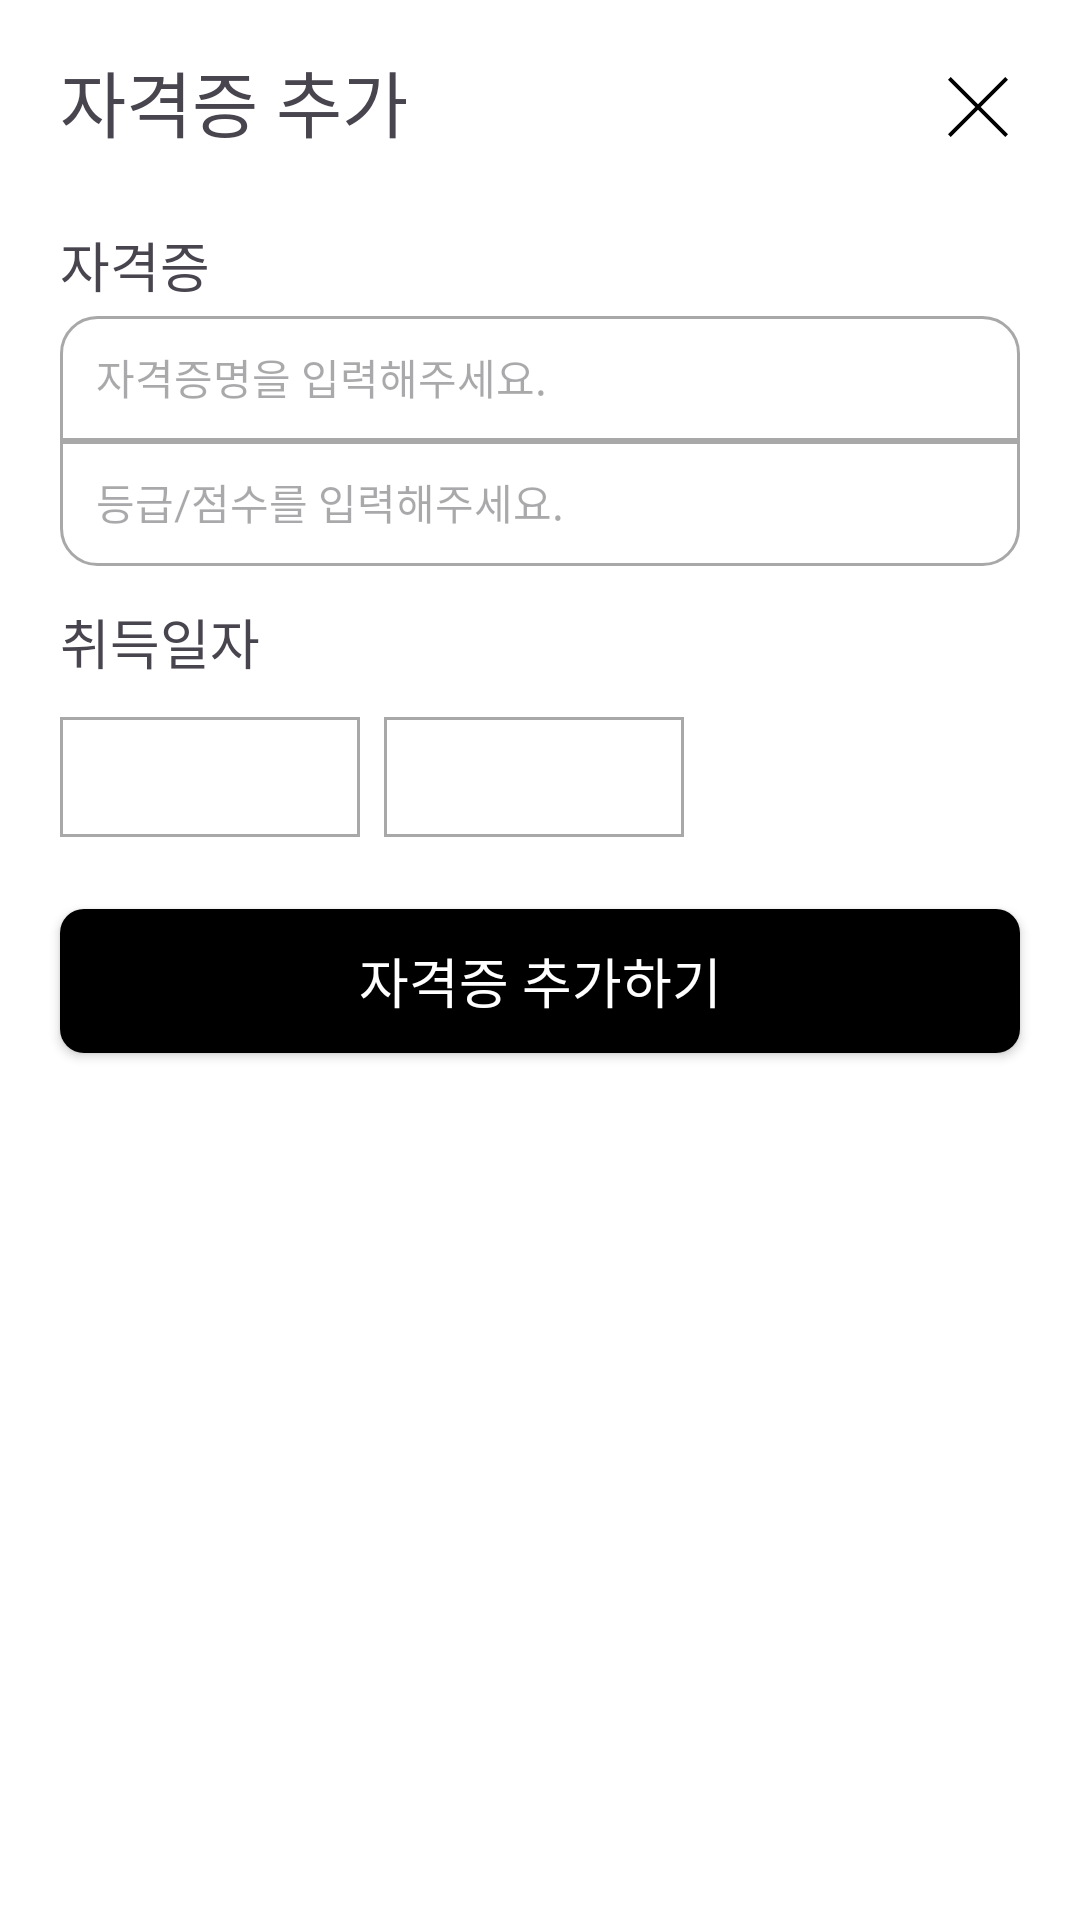

Where icons sit on this 1080*1920 app screen, as (x1, y1, x2, y2):
sign back: (948, 77, 1008, 137)
